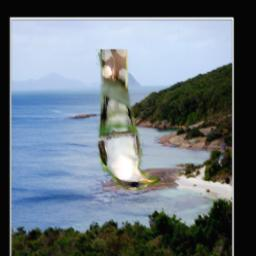Cuckoo: (97, 50, 162, 191)
